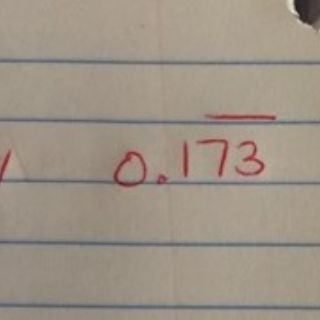.: (155, 171, 169, 187)
0: (112, 149, 147, 188)
1: (177, 135, 192, 180)
3: (231, 133, 268, 180)
7: (195, 131, 231, 178)
